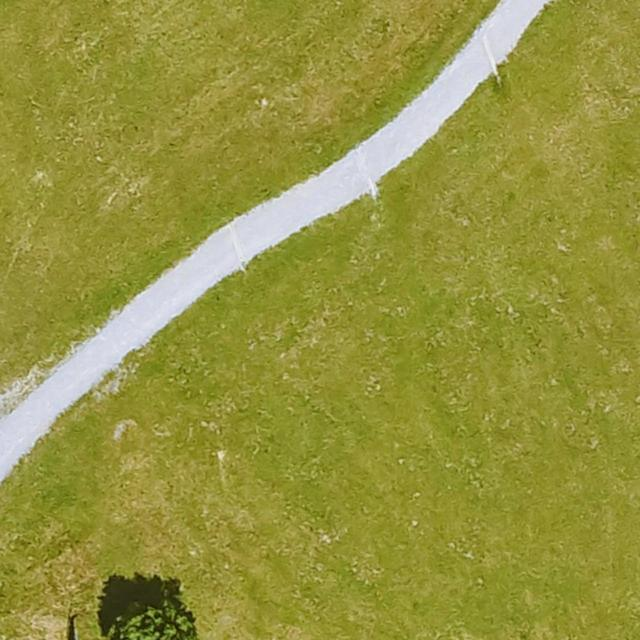tree: (111, 605, 198, 640)
